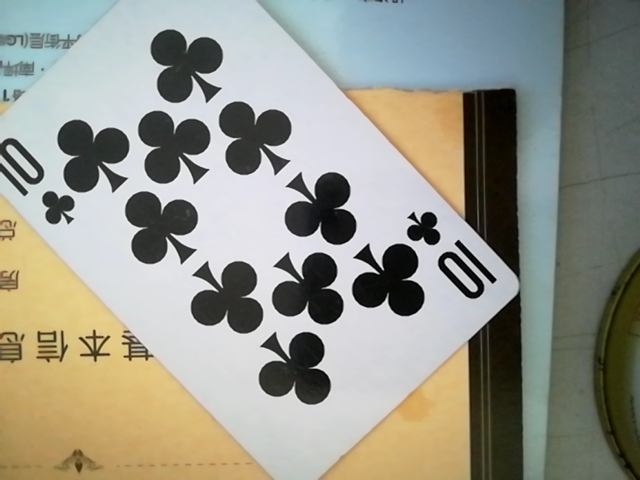mh 10: (1, 1, 529, 480)
